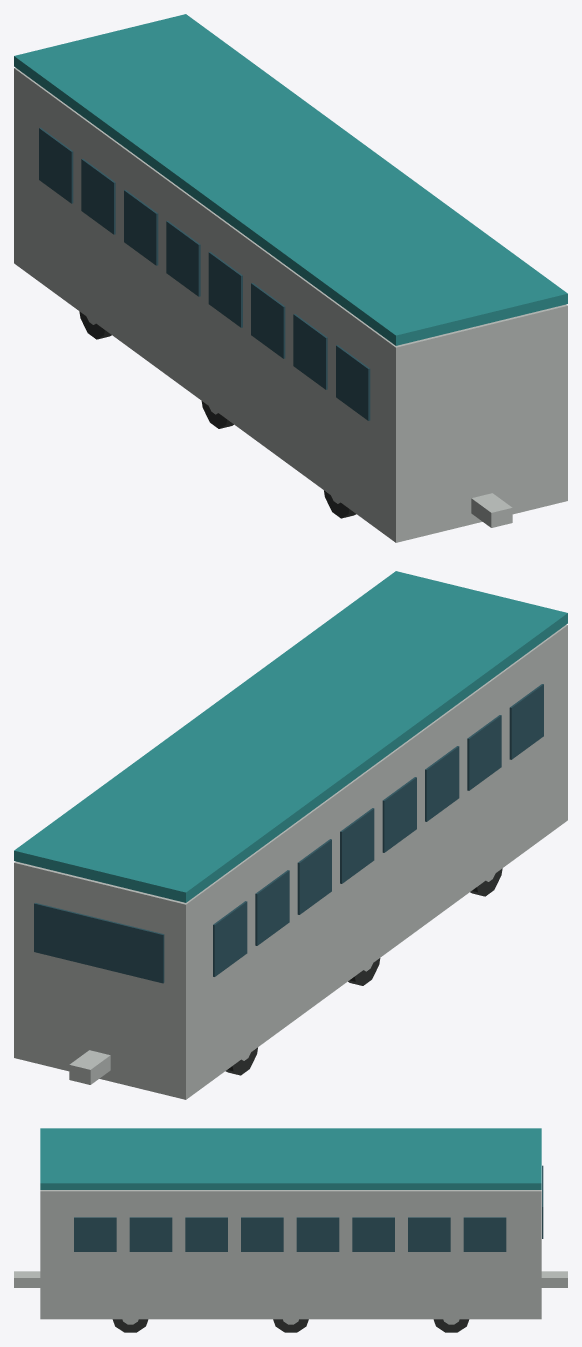
Rendered from subway.glb.
3 renders of one model, top to bottom at view 1: azimuth 30°, elevation 25°; view 2: azimuth 150°, elevation 25°; view 3: azimuth 270°, elevation 25°, orthographic. The views are drawn at different scales.
Parts seen in each view (by area): view 1: SubwayModel traffic_metal, Teal roof, SubwayModel traffic_glass, SubwayModel traffic_rubber; view 2: SubwayModel traffic_metal, Teal roof, SubwayModel traffic_glass, SubwayModel traffic_rubber; view 3: SubwayModel traffic_metal, Teal roof, SubwayModel traffic_glass, SubwayModel traffic_rubber.
Boxes of the visible parts, bbox=[...] form: SubwayModel traffic_metal: bbox=[14, 67, 567, 542]; Teal roof: bbox=[14, 14, 567, 345]; SubwayModel traffic_glass: bbox=[39, 127, 370, 420]; SubwayModel traffic_rubber: bbox=[79, 311, 356, 518]; SubwayModel traffic_metal: bbox=[14, 624, 567, 1099]; Teal roof: bbox=[14, 571, 567, 902]; SubwayModel traffic_glass: bbox=[34, 684, 543, 983]; SubwayModel traffic_rubber: bbox=[225, 868, 502, 1075]; SubwayModel traffic_metal: bbox=[14, 1190, 567, 1324]; Teal roof: bbox=[40, 1128, 541, 1189]; SubwayModel traffic_glass: bbox=[74, 1165, 543, 1251]; SubwayModel traffic_rubber: bbox=[112, 1319, 469, 1332].
Bounding box in the file's own units: 2.66 × 3.36 × 11.05.
